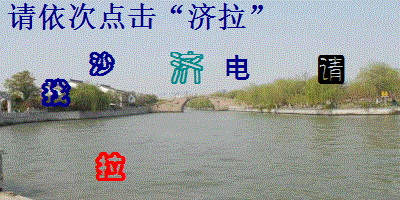result: (186, 1, 249, 30)
text: (168, 49, 206, 85), (94, 150, 128, 183), (39, 77, 72, 109), (315, 53, 347, 86), (223, 53, 252, 82), (88, 50, 116, 77)
